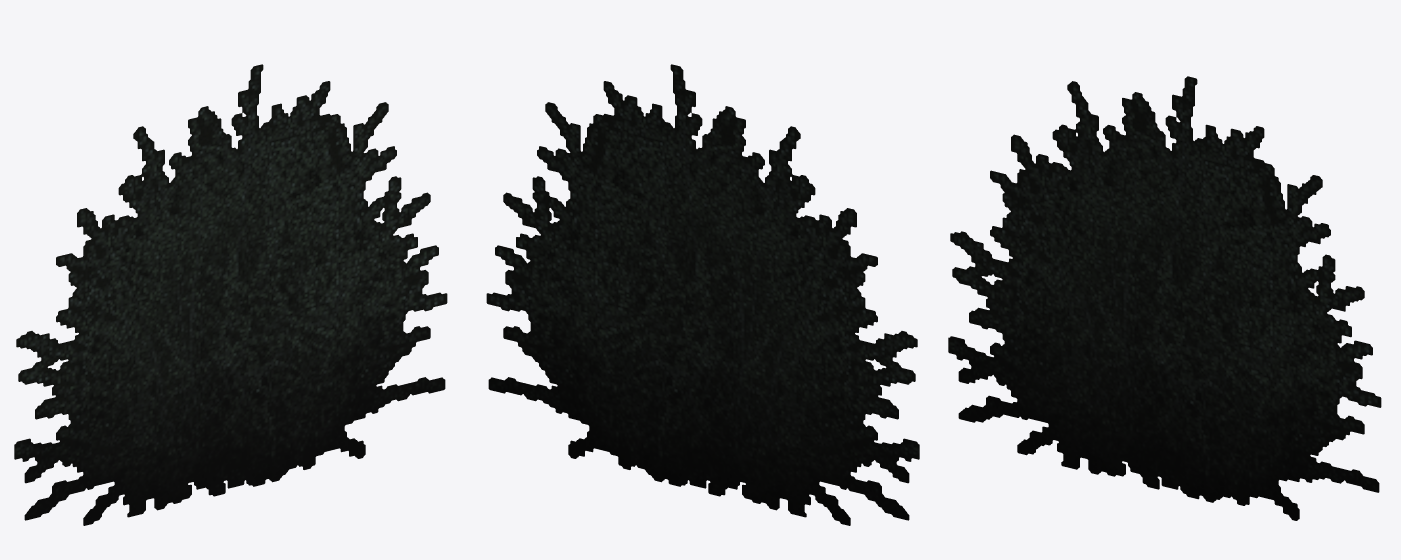
File: SM_EC_Scrubline_Bush_Card_0.fbx
The picture shows the model from 3 angles, left to right: view 1: azimuth 30°, elevation 25°; view 2: azimuth 150°, elevation 25°; view 3: azimuth 330°, elevation 25°; orthographic projection.
Parts seen in each view (by area): view 1: SM_EC_Scrubline_Bush_Card_0; view 2: SM_EC_Scrubline_Bush_Card_0; view 3: SM_EC_Scrubline_Bush_Card_0.
Boxes of the visible parts, x1,y1,x2,y2 form: SM_EC_Scrubline_Bush_Card_0: (14,64,447,525); SM_EC_Scrubline_Bush_Card_0: (486,64,919,525); SM_EC_Scrubline_Bush_Card_0: (948,76,1381,520).
Bounding box in the file's own units: 3.27 × 2.29e-07 × 3.03.
